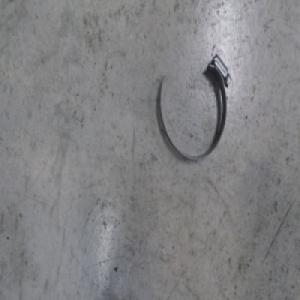AdjustableClamp: (157, 51, 231, 165)
